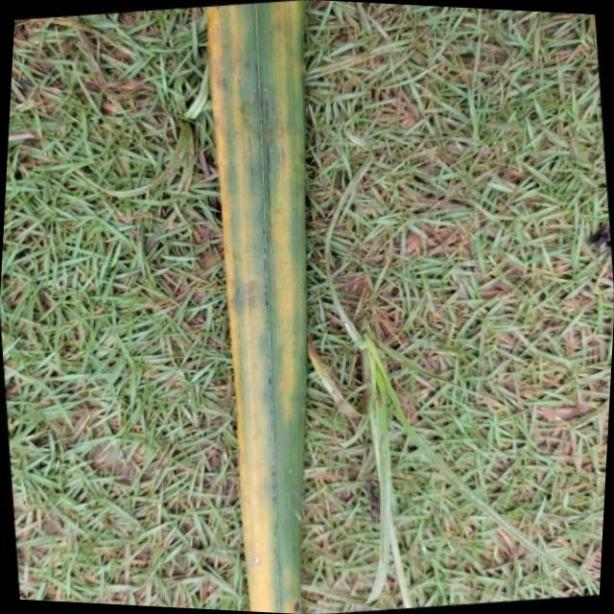Megnesium: (208, 0, 310, 614)
